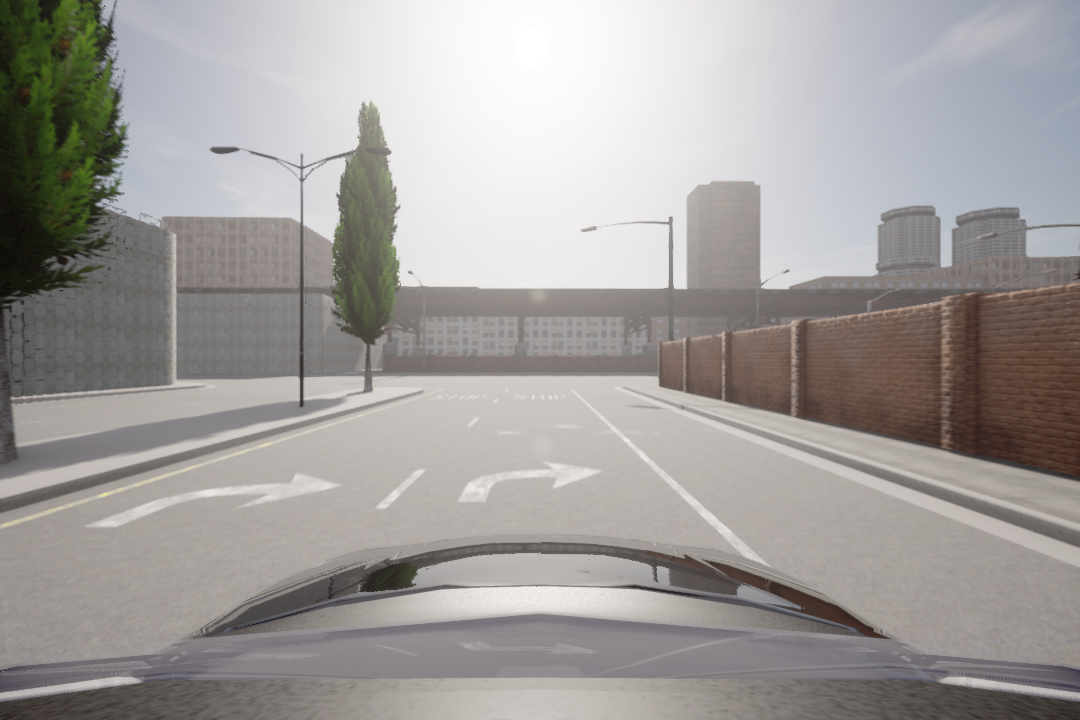RoadSign_right: (83, 464, 342, 534), (460, 457, 607, 507)
